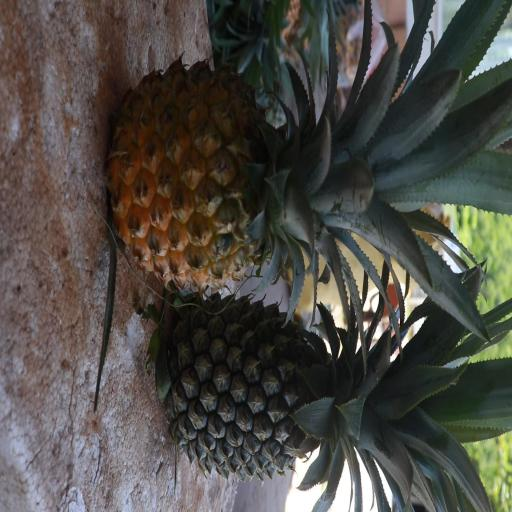Pineapple - v8 v1: (113, 57, 459, 291)
